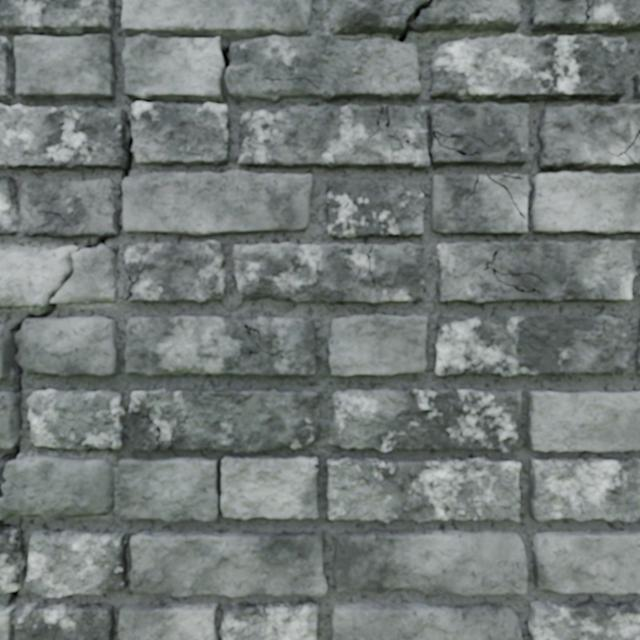broken_brick: (0, 244, 118, 306), (0, 455, 114, 518), (410, 0, 520, 32), (329, 0, 428, 35)
crack: (0, 0, 433, 253), (0, 253, 119, 497), (238, 102, 528, 168), (0, 519, 127, 639), (119, 455, 318, 522), (430, 34, 626, 102), (130, 531, 327, 597), (334, 529, 527, 596), (326, 457, 520, 522), (436, 240, 635, 303), (329, 388, 521, 453), (127, 388, 320, 452), (435, 315, 629, 376), (233, 243, 424, 304), (0, 0, 116, 100), (125, 316, 316, 376), (529, 457, 639, 522), (330, 602, 522, 639), (533, 530, 639, 595), (527, 391, 639, 452), (529, 172, 639, 234), (537, 104, 639, 170), (125, 241, 225, 303), (326, 176, 425, 238), (329, 314, 427, 376), (430, 173, 529, 234), (26, 389, 124, 450), (528, 600, 639, 639), (220, 601, 318, 639), (118, 602, 217, 639), (530, 0, 639, 33), (0, 174, 17, 235), (0, 37, 14, 99), (633, 50, 639, 99), (635, 318, 639, 373)
